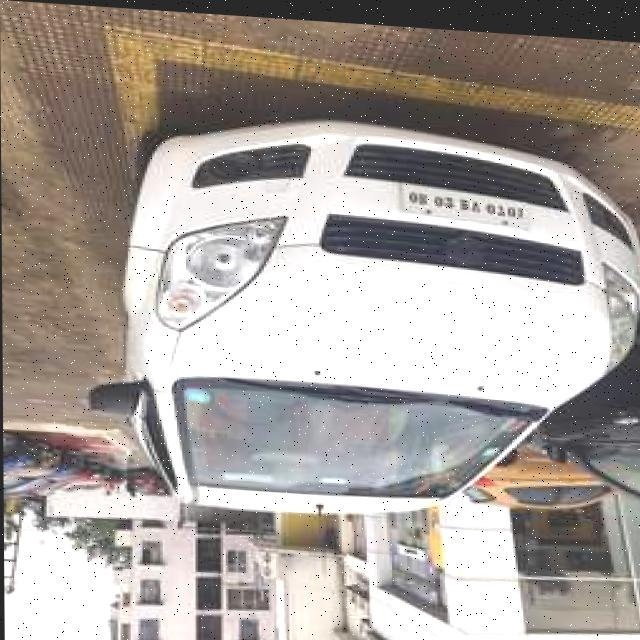plate: (400, 177, 530, 224)
